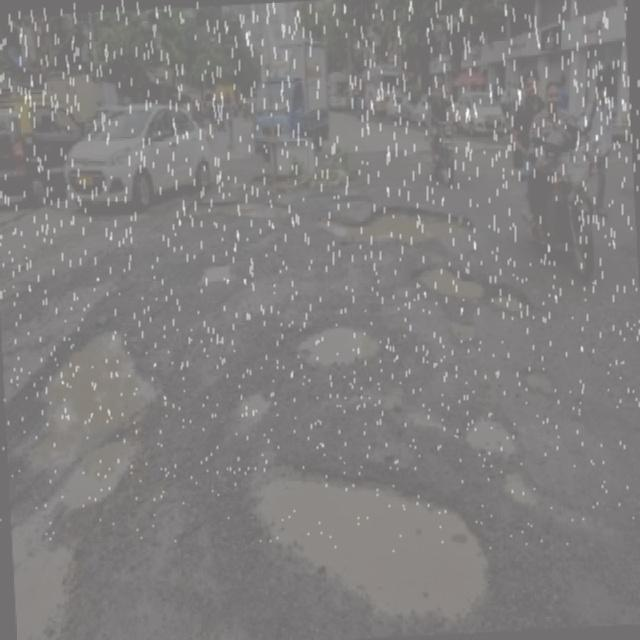Pothole: (0, 299, 167, 640), (229, 449, 499, 640), (306, 204, 505, 245), (279, 306, 388, 370), (201, 187, 317, 235), (220, 370, 280, 451), (456, 402, 535, 460), (404, 254, 490, 304), (179, 249, 245, 293), (516, 363, 570, 404), (497, 466, 542, 512), (487, 281, 540, 318), (443, 308, 483, 354)
